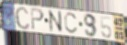5: (99, 15, 112, 39)
9: (83, 13, 98, 39)
C: (14, 6, 31, 31), (63, 12, 78, 35)
N: (47, 9, 64, 34)
P: (30, 7, 45, 32)
